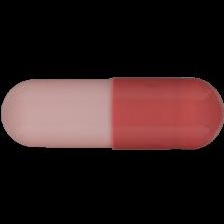68788-9748: (0, 0, 224, 224)
